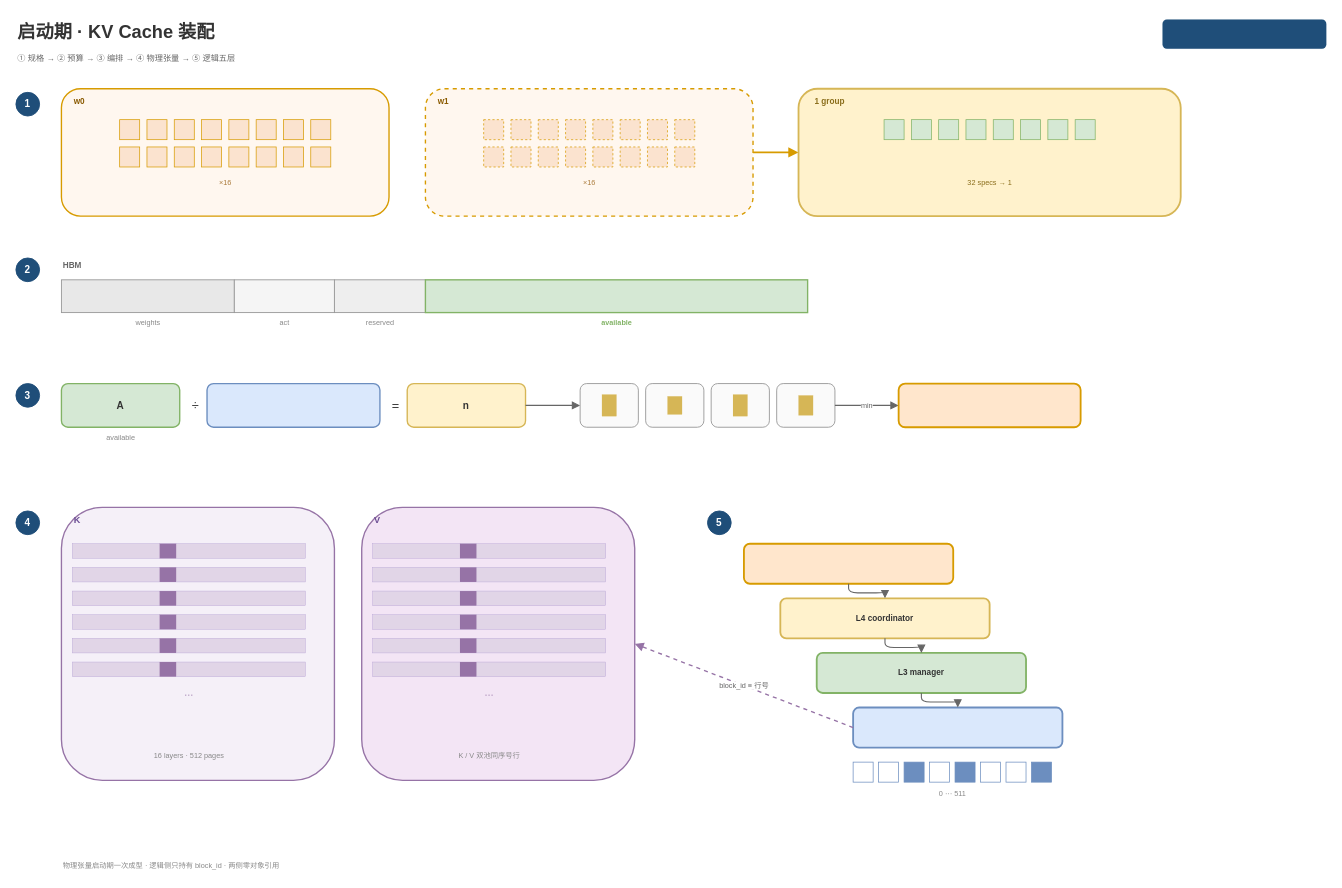
Some shapes in this 1342 by 888 pixel diagram are drawn without their labels. The shapes that lost their labels are listed below. From the top down, each one's box as (x1, y1, x2, y2) in pixels, then its label:
(1162, 19, 1326, 48): 启动期
(206, 382, 380, 428): page 256K
(897, 382, 1081, 428): num_blocks 512
(743, 542, 954, 584): L5 manager
(852, 706, 1063, 748): L2 BlockPool
